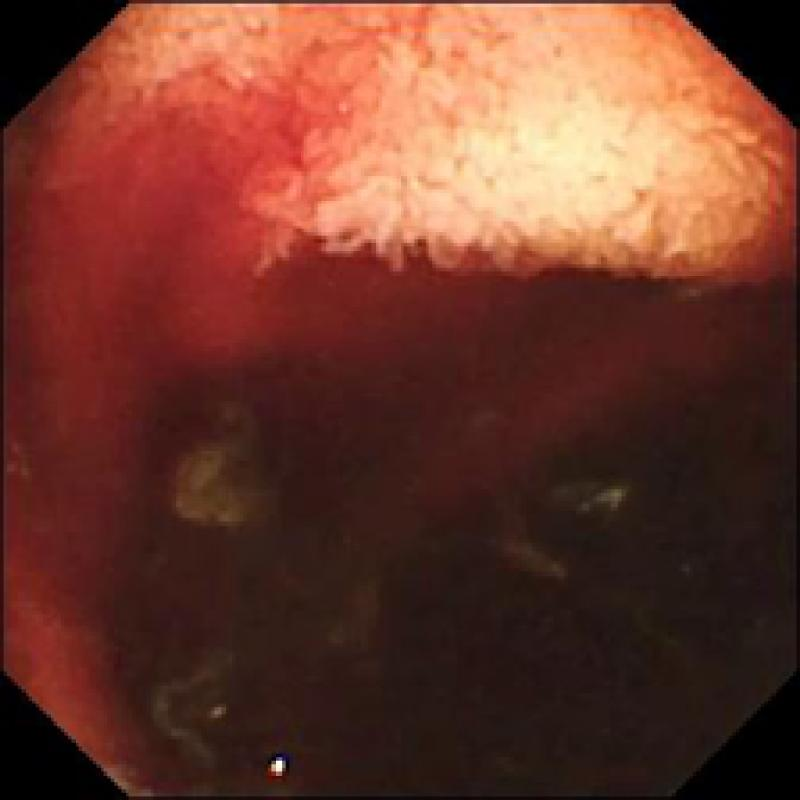bleeding: (0, 61, 768, 782)
